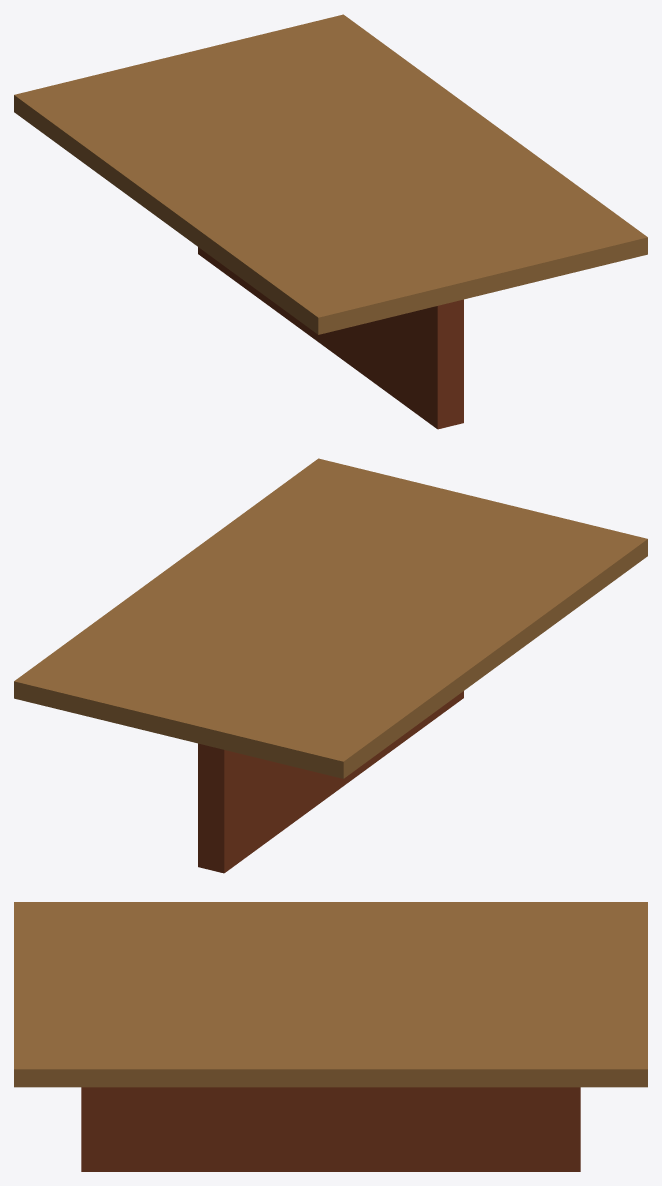
Rendered from Table.gltf.
3 renders of one model, top to bottom at view 1: azimuth 30°, elevation 25°; view 2: azimuth 150°, elevation 25°; view 3: azimuth 270°, elevation 25°, orthographic. The views are drawn at different scales.
Parts seen in each view (by area): view 1: cuboid (×2); view 2: cuboid (×2); view 3: cuboid (×2).
Part boxes in pixels (x1=…): cuboid (×2): x1=14, y1=14, x2=647, y2=429; cuboid (×2): x1=14, y1=458, x2=647, y2=873; cuboid (×2): x1=14, y1=902, x2=647, y2=1171.
Size of the model in its own units: 0.625 by 0.3125 by 1.
1 material, 1 textured.
